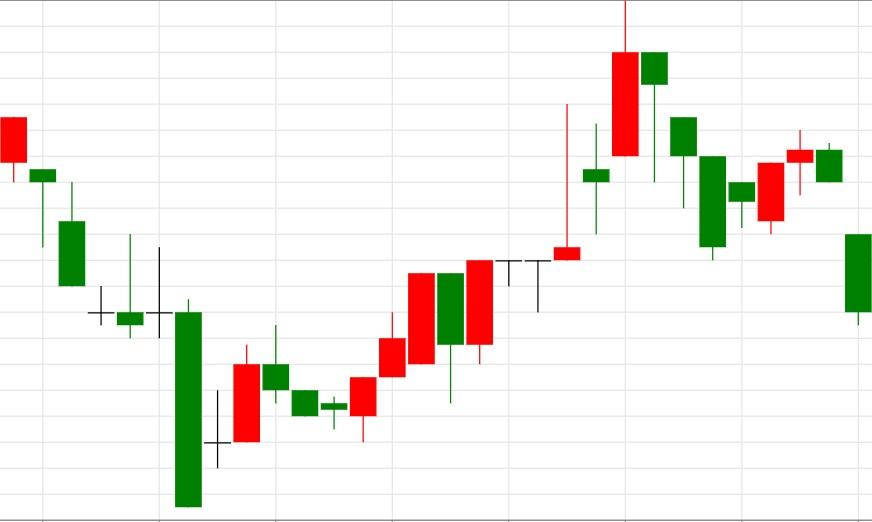bullish_engulfing_rise: (641, 52, 784, 261)
hanging_man_fall: (349, 0, 669, 441)
three_black_crows_fall: (349, 0, 727, 442)
